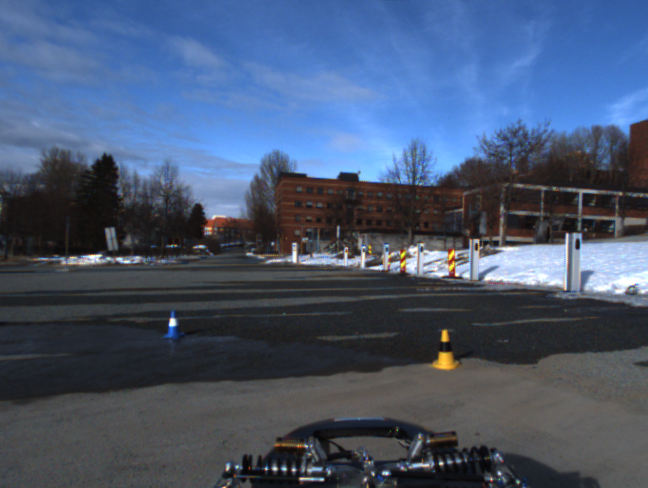cone-small-blue: (162, 310, 185, 340)
cone-small-yellow: (430, 330, 463, 370)
